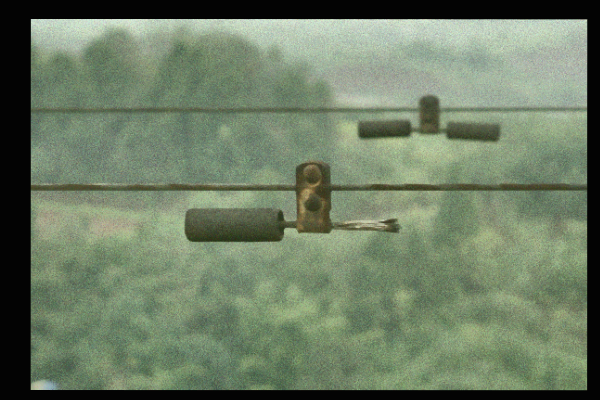damper: (352, 92, 503, 143)
damper_defect: (180, 156, 406, 246)
